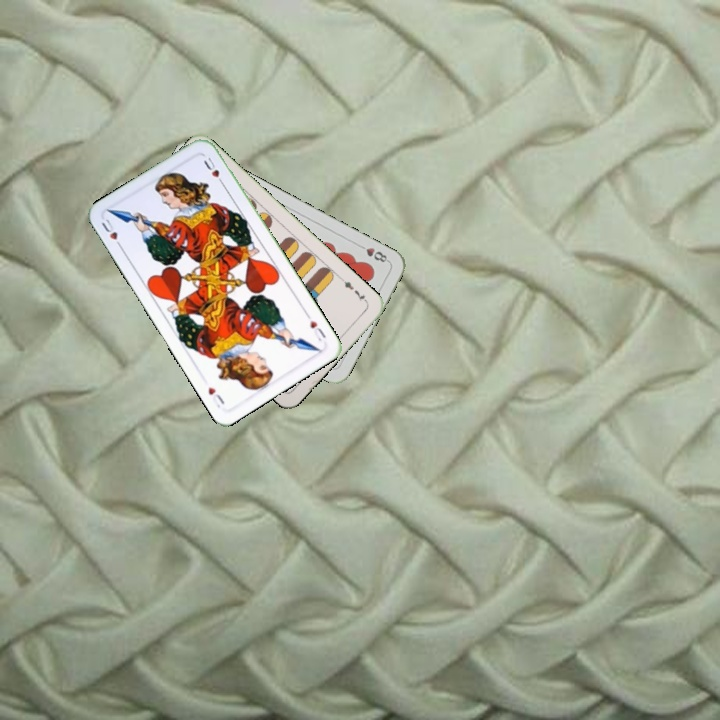E7: (338, 275, 370, 306)
H8: (354, 240, 392, 265)
HU: (97, 215, 125, 252), (302, 309, 328, 344)
